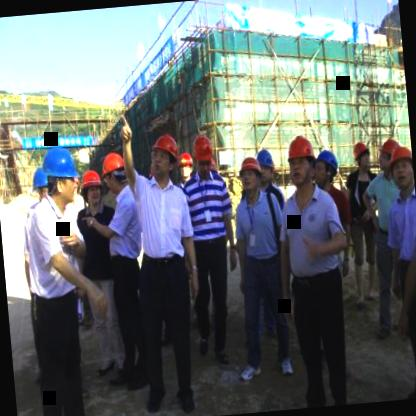helmet: (40, 147, 82, 206), (284, 130, 318, 186), (148, 132, 180, 184), (386, 139, 415, 192), (100, 144, 126, 192), (192, 132, 219, 176), (236, 152, 262, 196), (314, 146, 342, 186), (78, 170, 104, 210), (373, 134, 399, 174), (350, 138, 374, 177), (256, 146, 276, 186), (175, 148, 195, 185)
